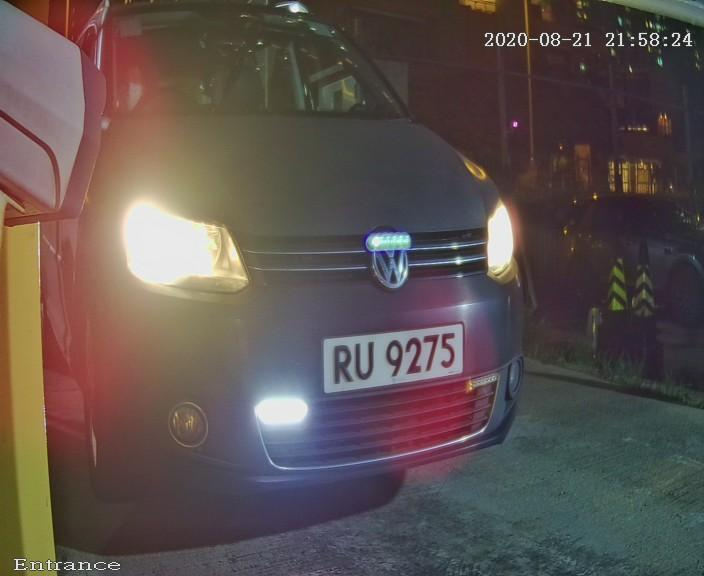Car: (19, 29, 563, 548)
License Plate: (315, 319, 466, 402)
